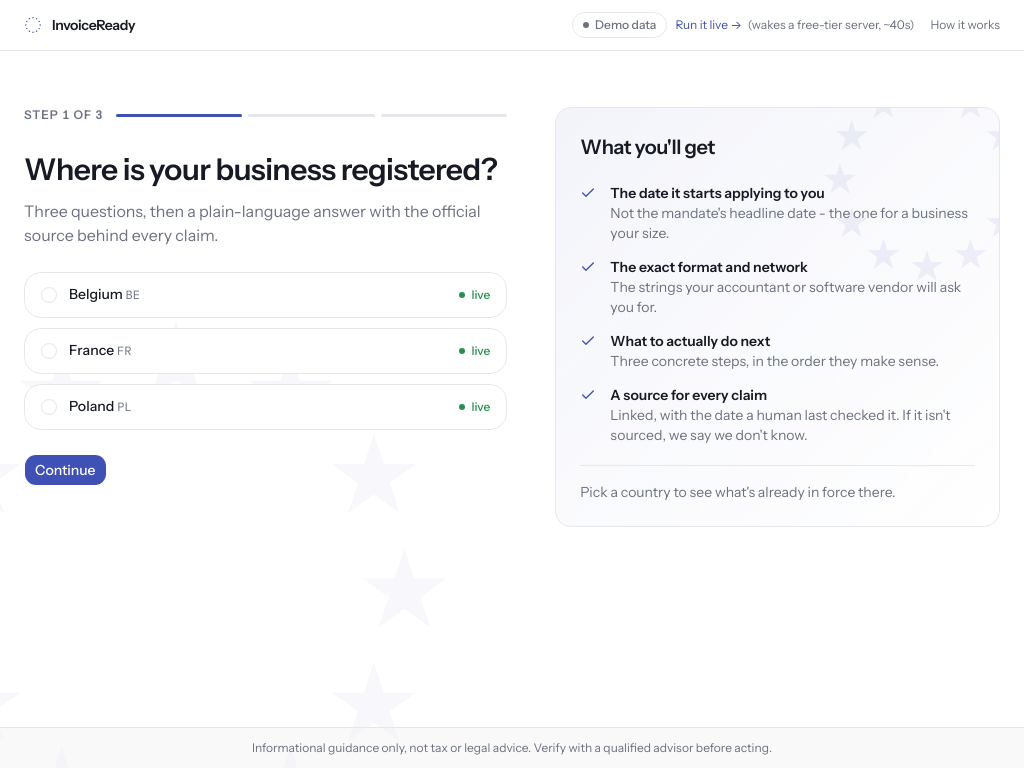
Test: intake flow › will not advance past an unanswered question
The image size is (1024, 768).
Check: the radio button named "belgium" next to "Belgium" is shown, box [41,287,57,303]
Click the button "Continue". click: (65, 470)
box: [24,454,106,486]
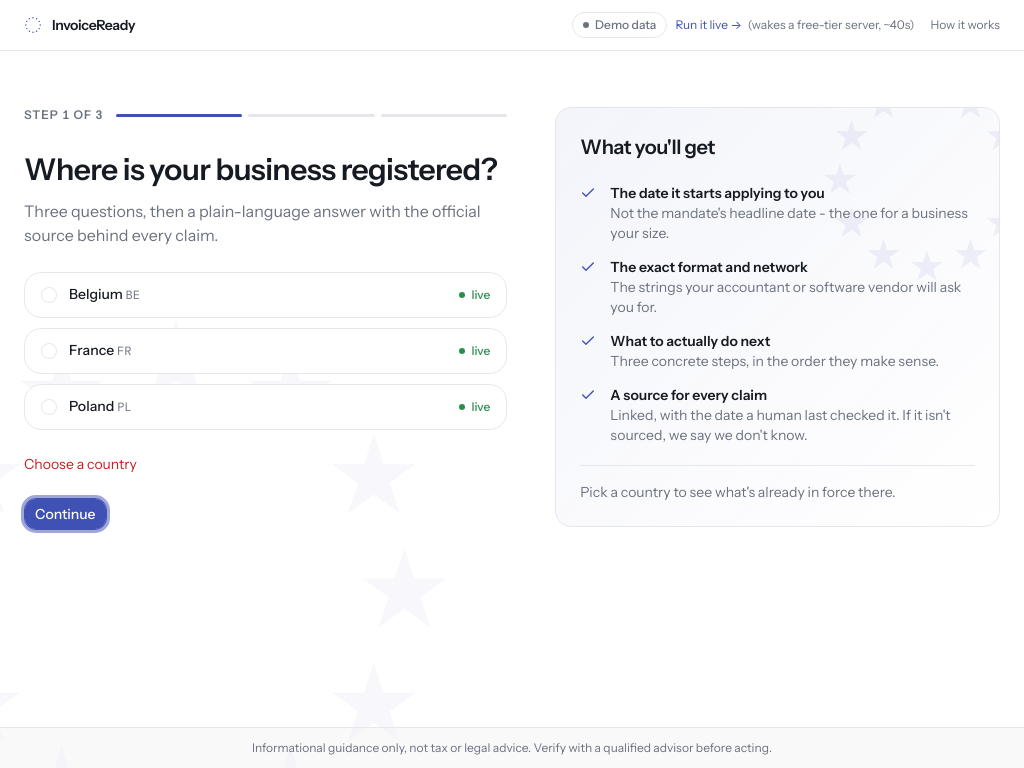
Check: the heading "Where is your business registered?" is shown, box [24,151,507,188]
Check: the message "Choose a country" is shown, box [24,455,137,473]
